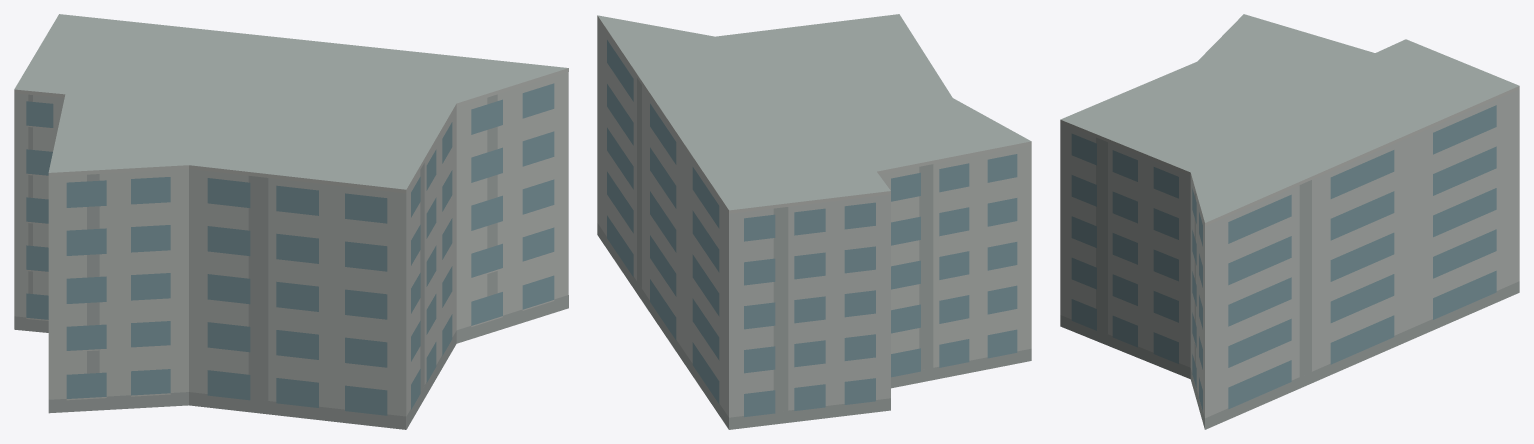
File: residential-4d842905-dea5-41f3-9a5f-4128136ca13f.glb
3 views of the same model, side by side, from view 1: azimuth 30°, elevation 25°; view 2: azimuth 150°, elevation 25°; view 3: azimuth 270°, elevation 25° (orthographic). The views are drawn at different scales.
Visible parts, largest first — view 1: residential-4d842905-dea5-41f3-9a5f-4128136ca13f.tmp; view 2: residential-4d842905-dea5-41f3-9a5f-4128136ca13f.tmp; view 3: residential-4d842905-dea5-41f3-9a5f-4128136ca13f.tmp.
Part boxes in pixels (<box>): residential-4d842905-dea5-41f3-9a5f-4128136ca13f.tmp: <box>14,14,568,429</box>; residential-4d842905-dea5-41f3-9a5f-4128136ca13f.tmp: <box>597,14,1031,429</box>; residential-4d842905-dea5-41f3-9a5f-4128136ca13f.tmp: <box>1060,14,1519,429</box>.
Bounding box in the file's own units: 33.08 × 15.25 × 30.71.
